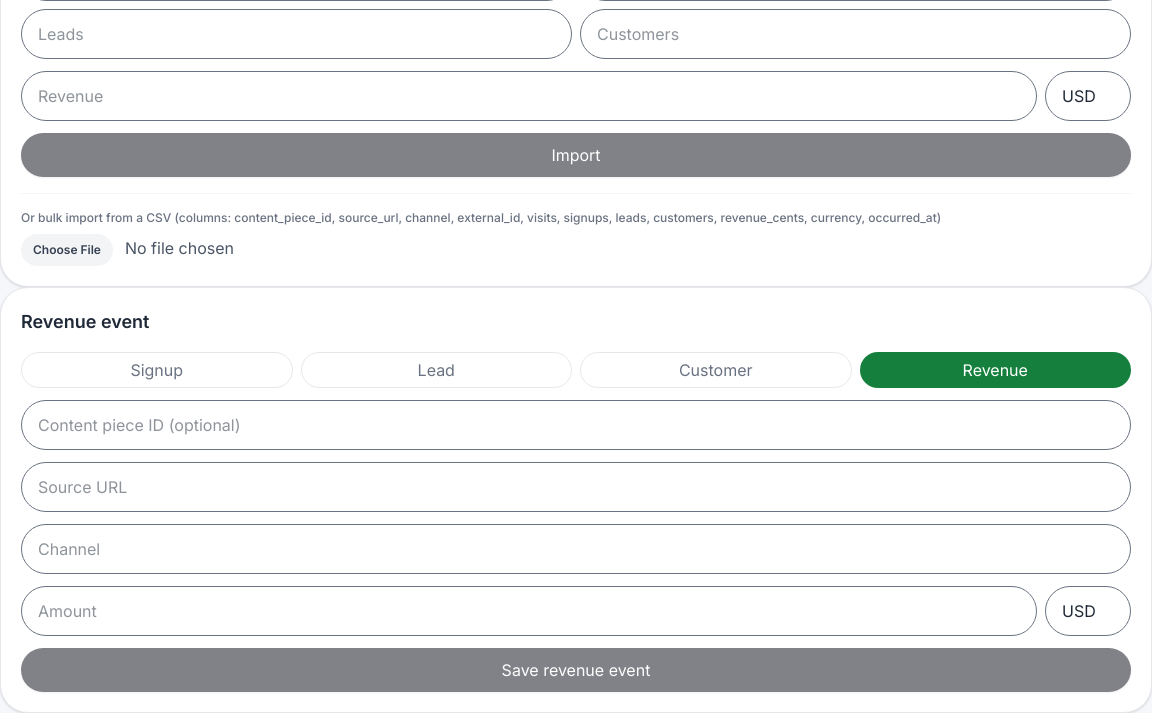
Test: ImportRevenuePanel › enables the revenue submit button once a meaningful field is filled
(page scrolled)
Step 1. Type "12.50" into the field with placeholder "Amount" → (529, 611), box [21,586,1037,636]
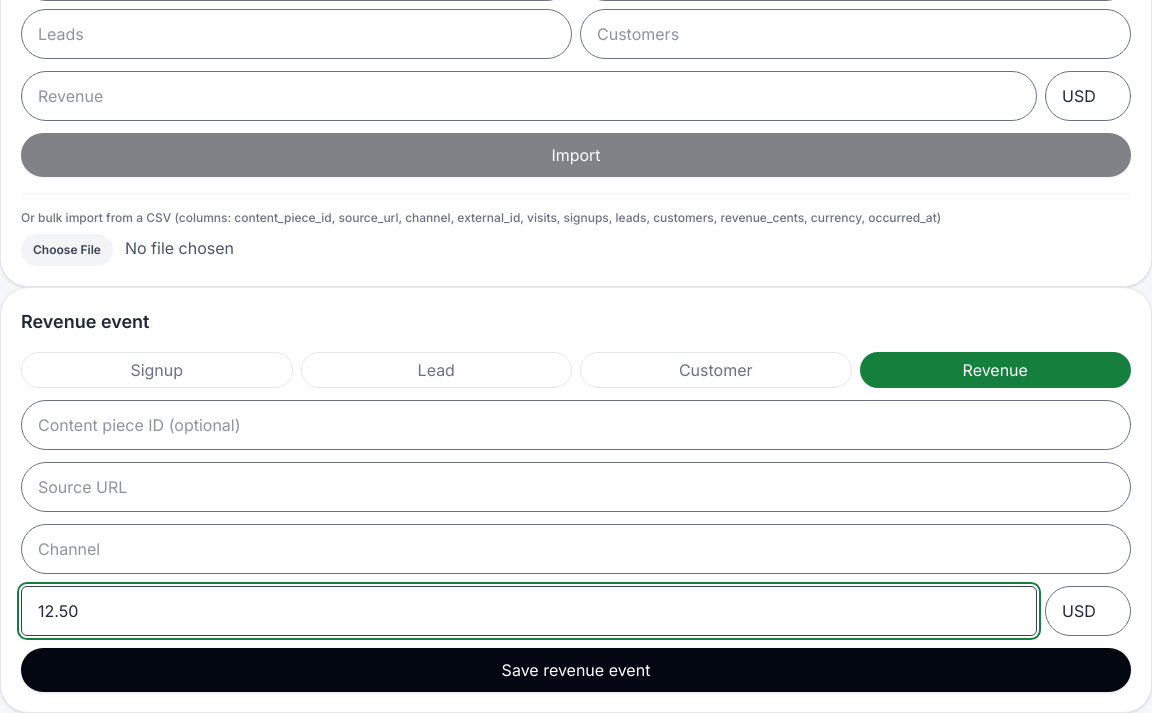
Result: the button "Save revenue event" is enabled at [21,648,1131,692]
